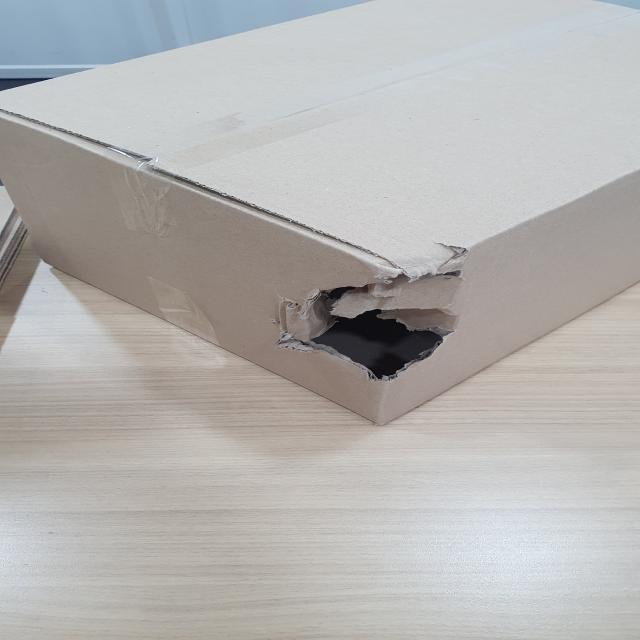hole: (267, 227, 473, 385)
